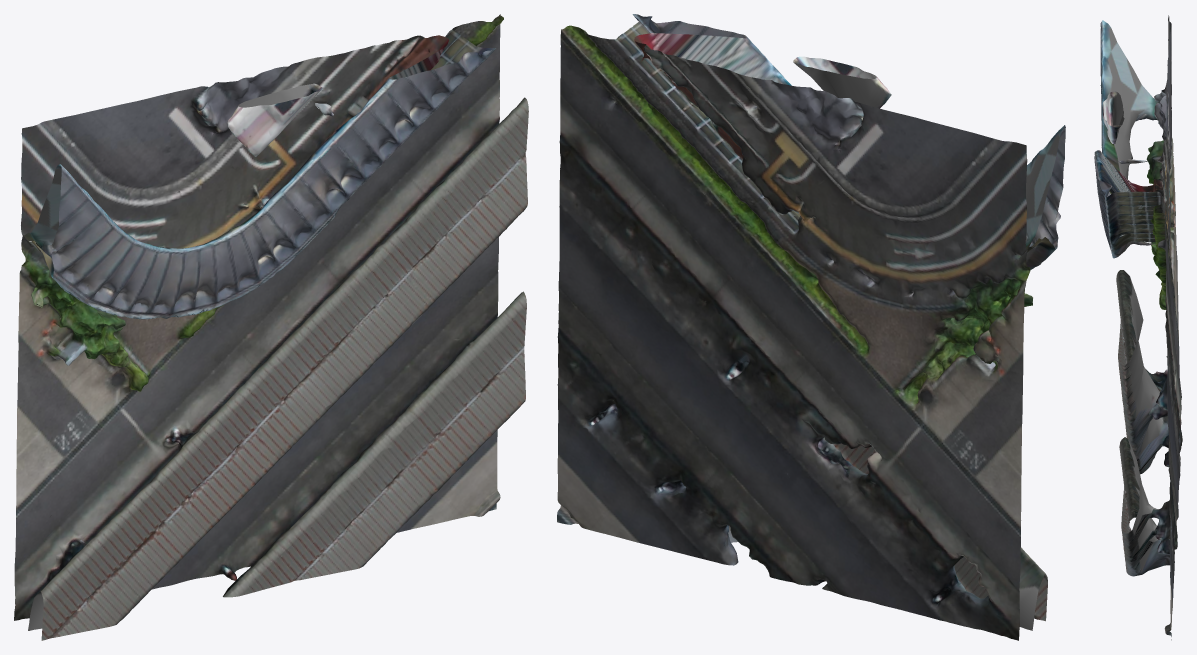
The model's file is Tile_+017_+020.fbx.
The picture shows the model from 3 angles, left to right: view 1: azimuth 30°, elevation 25°; view 2: azimuth 150°, elevation 25°; view 3: azimuth 270°, elevation 25°; orthographic projection. The views are drawn at different scales.
Parts seen in each view (by area): view 1: DefaultName; view 2: DefaultName; view 3: DefaultName.
Boxes of the visible parts, x1,y1,x2,y2 form: DefaultName: [14, 14, 528, 640]; DefaultName: [557, 14, 1065, 640]; DefaultName: [1094, 15, 1182, 640].
Size of the model in its own units: 22.54 by 22.54 by 4.21.
